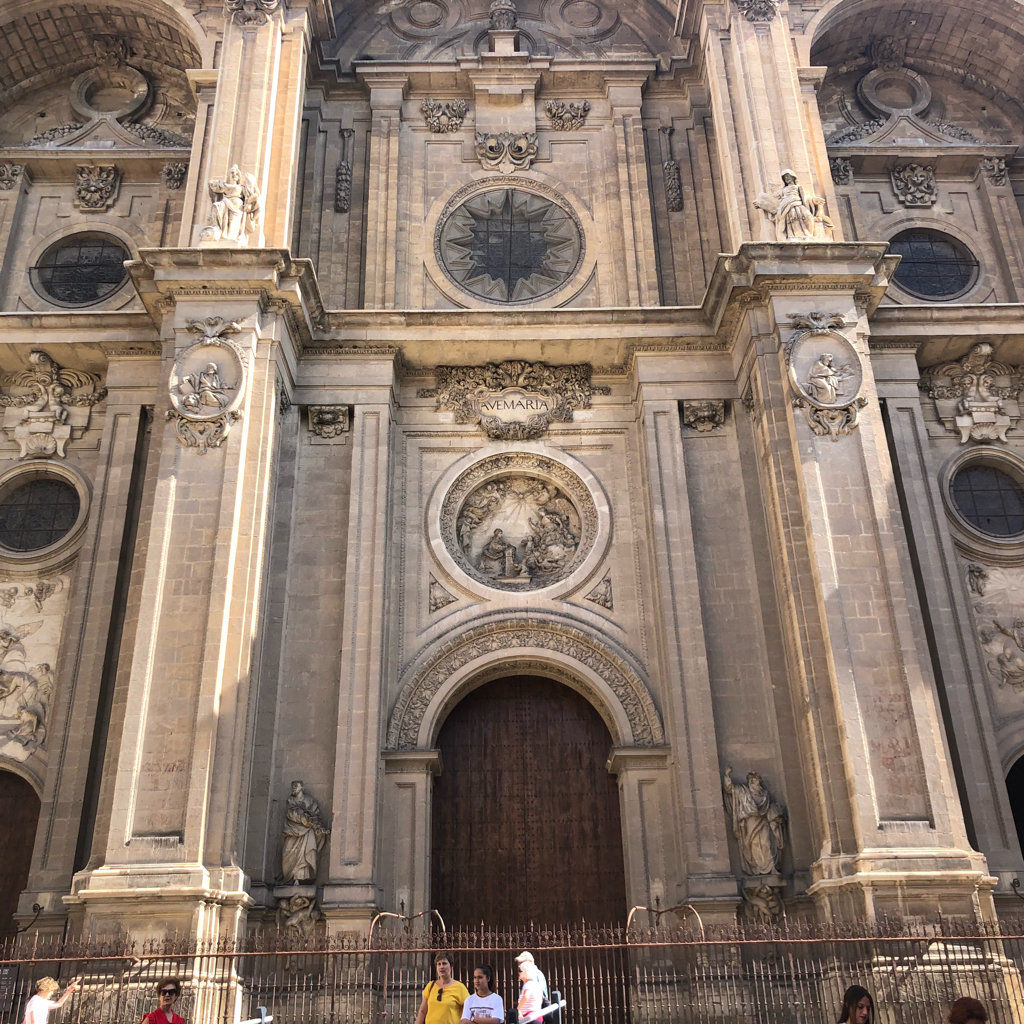arco-medio-punto: (417, 654, 644, 803)
ojo-de-buey: (1, 455, 97, 567), (22, 221, 133, 308), (875, 218, 982, 302), (942, 444, 1024, 545)
